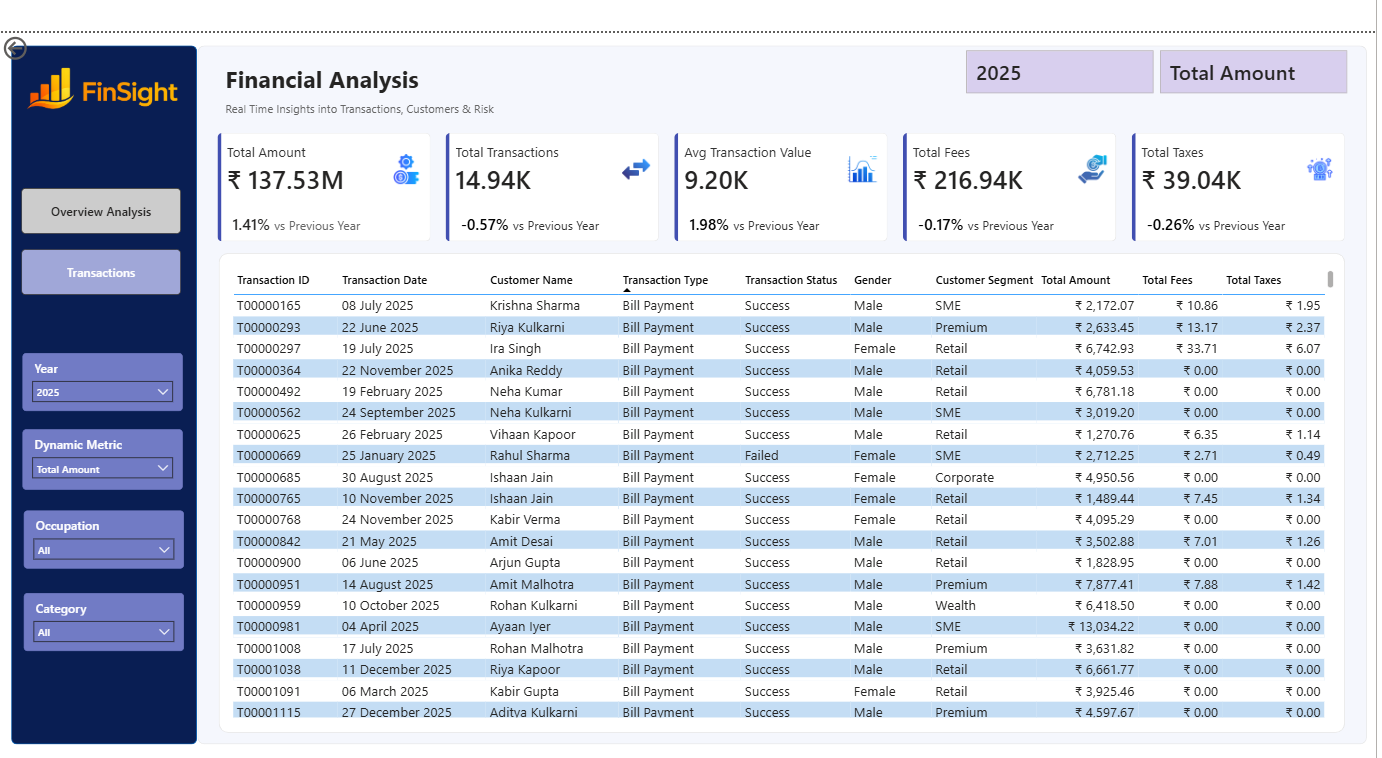

This screenshot's page, from the dashboard's own definition file:
{"tool":"powerbi","page":{"name":"Transactions","canvas":[1800,950],"ordinal":1},"visuals":[{"type":"shape","box":[14.8,16.4,242.9,914.2],"z":0},{"type":"shape","box":[257.7,16.4,1529.7,914.2],"z":1000},{"type":"image","box":[19.7,27.9,233.1,90.3],"z":2000},{"type":"cardVisual","fields":{"Data":["finance_transactions.Dashboard Title"]},"box":[277.8,17.6,388.6,112.5],"z":3000},{"type":"cardVisual","fields":{"Data":["finance_transactions.Total Amount","finance_transactions.Total Transactions","finance_transactions.Avg Transaction Value","finance_transactions.Total Fees","finance_transactions.Total Taxes"]},"box":[277.8,124.8,1489.2,154.7],"z":4000},{"type":"image","box":[506.4,153,49.2,49.2],"z":6000},{"type":"image","box":[807,153,49.2,49.2],"z":7000},{"type":"image","box":[1701.9,153,49.2,49.2],"z":8000},{"type":"image","box":[1104.1,153,49.2,49.2],"z":9000},{"type":"image","box":[1404.8,153,49.2,49.2],"z":10000},{"type":"shape","box":[286.6,288.3,1473.3,627.7],"z":12000},{"type":"cardVisual","fields":{"Data":["finance_transactions.Selected Year","finance_transactions.Selected Dynamic Measure"]},"box":[1258.8,17.6,508.1,66.8],"z":13000},{"type":"tableEx","fields":{"Values":["finance_transactions.transaction_id","finance_transactions.transaction_date","customers.customer_name","finance_transactions.transaction_type","finance_transactions.transaction_status","customers.gender","customers.customer_segment","finance_transactions.Total Amount","finance_transactions.Total Fees","finance_transactions.Total Taxes"]},"box":[298.9,305.9,1450.5,594.3],"z":14000},{"type":"actionButton","box":[0,0,100,40],"z":15000},{"type":"slicer","fields":{"Values":["Calendar Table.Year"]},"box":[29.9,418.4,209.2,75.6],"z":15001},{"type":"slicer","fields":{"Values":["Dynamic Metric.Dynamic Metric"]},"box":[28.8,518,209.2,79.1],"z":15002},{"type":"slicer","fields":{"Values":["customers.occupation"]},"box":[30.6,625.2,209.2,75.6],"z":15003},{"type":"slicer","fields":{"Values":["finance_transactions.merchant_category"]},"box":[30.6,732.4,209.2,75.6],"z":15004},{"type":"pageNavigator","box":[28.1,202.2,209.2,140.7],"z":15005}]}

Visuals, with their boxes on the page's 1800x950 design canvas (x1, y1, x2, y2). These are canvas units, not pixel positions in the 1382x758 screenshot, which may show the page scaled, cropped or inside an application window:
shape: bbox(15, 16, 258, 931)
shape: bbox(258, 16, 1787, 931)
image: bbox(20, 28, 253, 118)
cardVisual - finance_transactions.Dashboard Title: bbox(278, 18, 666, 130)
cardVisual - finance_transactions.Total Amount x finance_transactions.Total Transactions: bbox(278, 125, 1767, 280)
image: bbox(506, 153, 556, 202)
image: bbox(807, 153, 856, 202)
image: bbox(1702, 153, 1751, 202)
image: bbox(1104, 153, 1153, 202)
image: bbox(1405, 153, 1454, 202)
shape: bbox(287, 288, 1760, 916)
cardVisual - finance_transactions.Selected Year x finance_transactions.Selected Dynamic Measure: bbox(1259, 18, 1767, 84)
tableEx - finance_transactions.transaction_id x finance_transactions.transaction_date: bbox(299, 306, 1749, 900)
actionButton: bbox(0, 0, 100, 40)
slicer - Calendar Table.Year: bbox(30, 418, 239, 494)
slicer - Dynamic Metric.Dynamic Metric: bbox(29, 518, 238, 597)
slicer - customers.occupation: bbox(31, 625, 240, 701)
slicer - finance_transactions.merchant_category: bbox(31, 732, 240, 808)
pageNavigator: bbox(28, 202, 237, 343)
